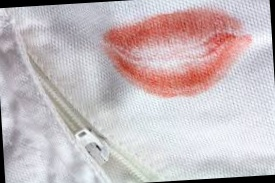lipstick: (100, 9, 247, 101)
